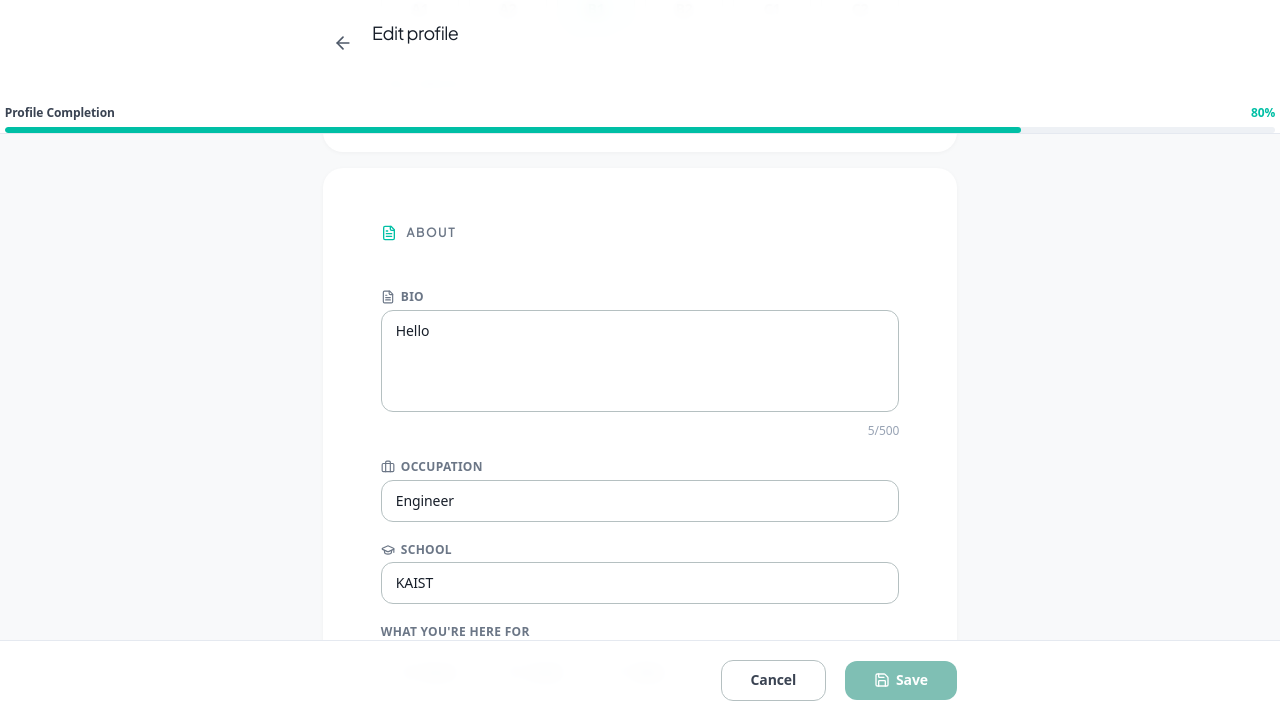
Test: saving › goes clean again when an edit is undone
(page scrolled)
Replace the text in the text box with test id "edit-bio" with "Hello!" at [640, 361], box [381,310,899,412]
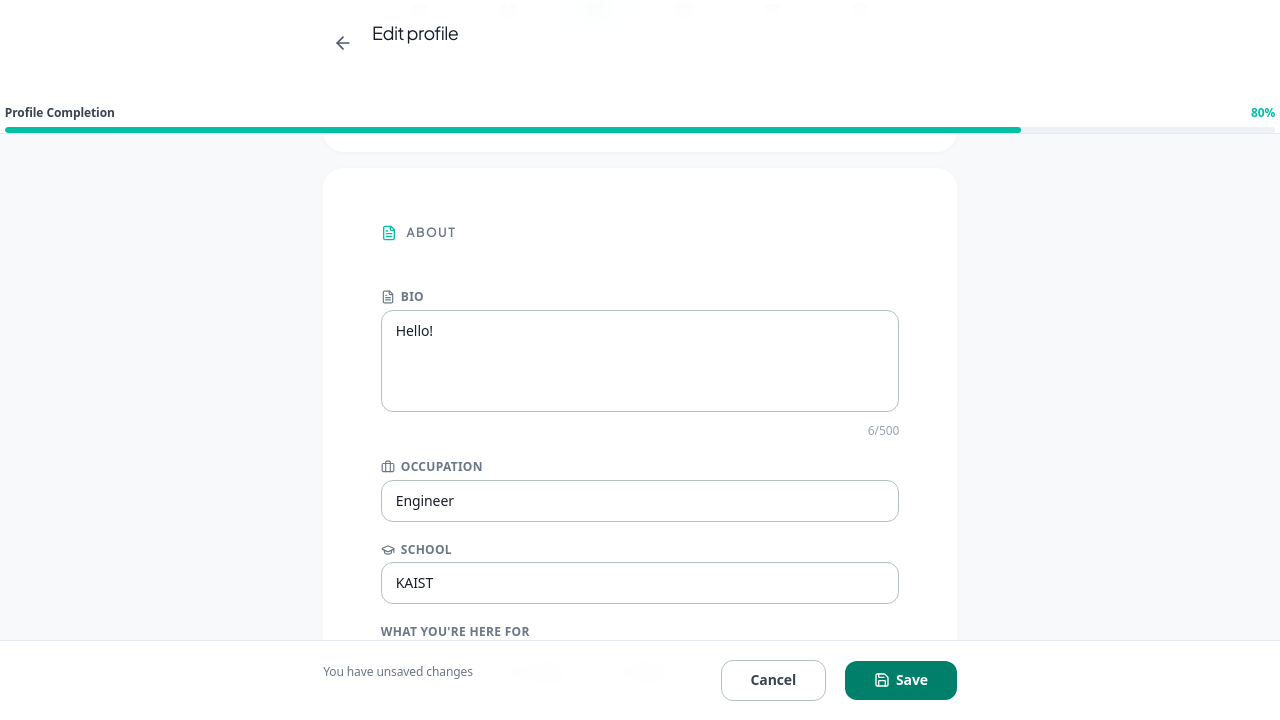
Now the button with test id "edit-save" is enabled, box [845,661,957,700]
Replace the text in the text box with test id "edit-bio" with "Hello" at [640, 361], box [381,310,899,412]
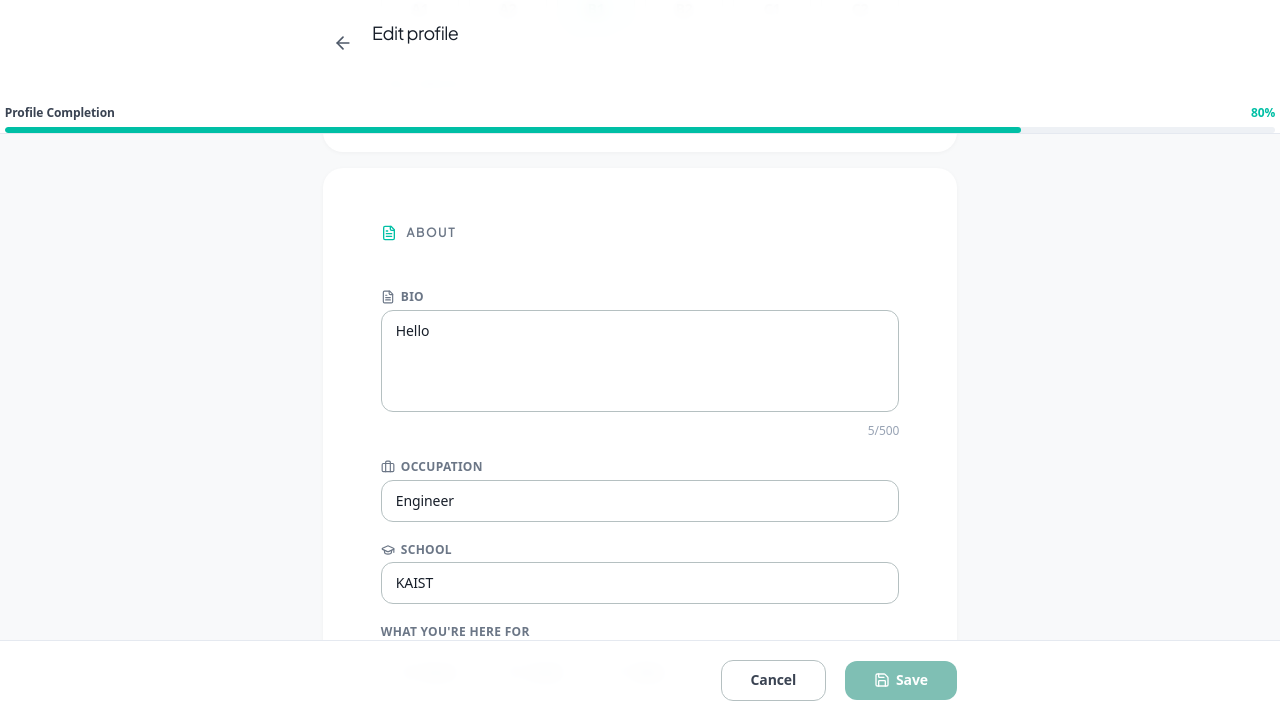
Now the button with test id "edit-save" is disabled, box [845,661,957,700]
